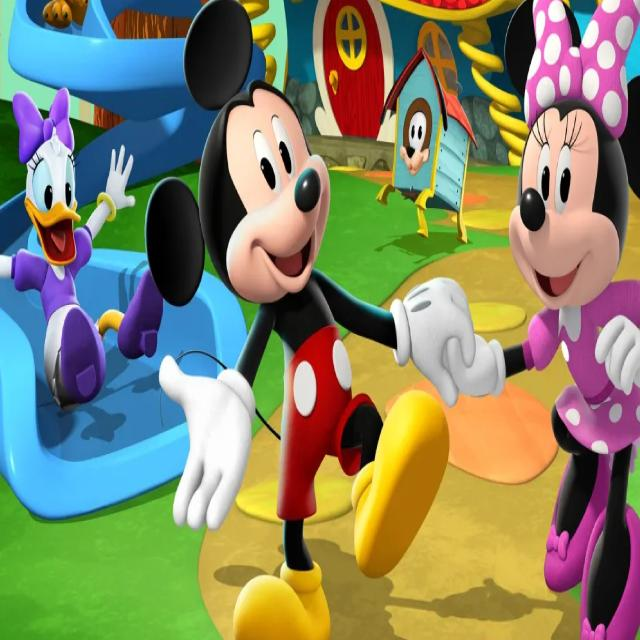mickey: (152, 11, 446, 576)
